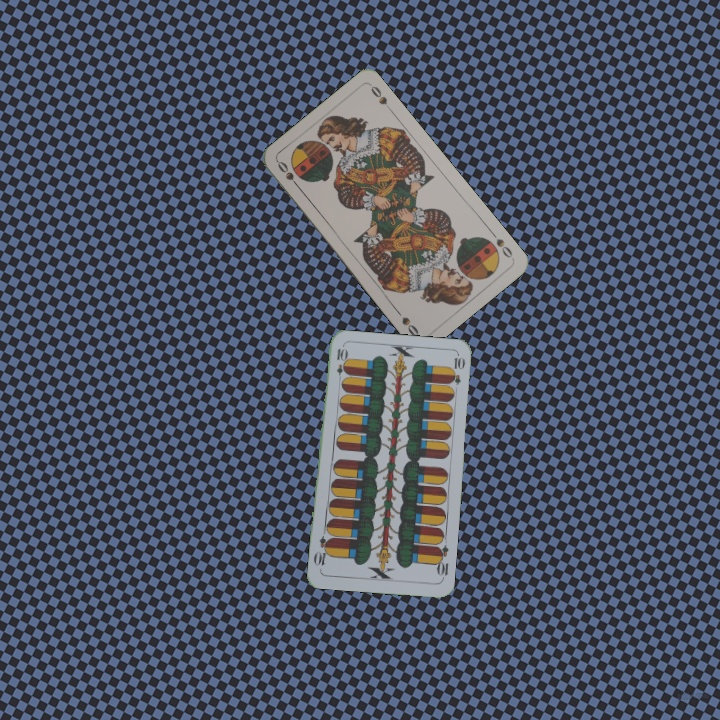E10: (432, 542, 451, 582), (332, 344, 347, 385)
SO: (273, 157, 303, 192), (486, 227, 515, 261)
